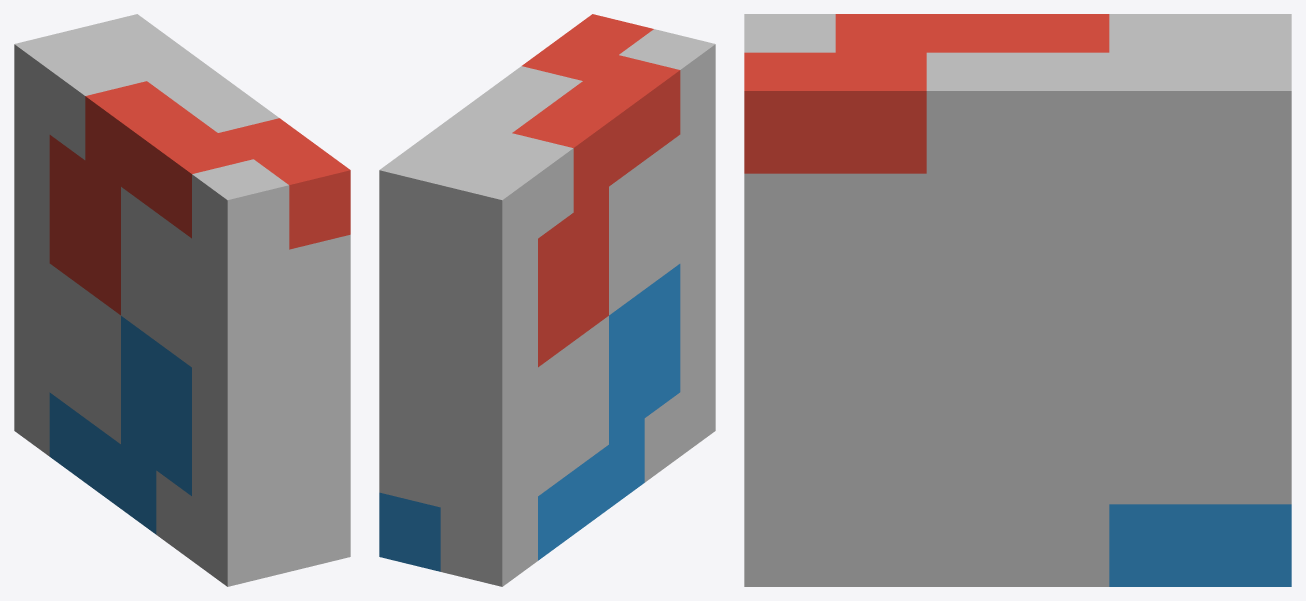
Rendered from tiling.obj.
3 renders of one model, left to right at view 1: azimuth 30°, elevation 25°; view 2: azimuth 150°, elevation 25°; view 3: azimuth 270°, elevation 25°, orthographic. The views are drawn at different scales.
Visible parts, largest first — view 1: copy_6, copy_1, copy_7, copy_5, copy_2, copy_3, copy_4, copy_8; view 2: copy_5, copy_1, copy_8, copy_2, copy_3, copy_6, copy_7, copy_4; view 3: copy_3, copy_7, copy_8, copy_4, copy_1, copy_5, copy_6, copy_2.
Part boxes in pixels (x1,y1,x2,y2): copy_6: (121,187,350,571); copy_1: (49,81,350,315); copy_7: (192,159,350,442); copy_5: (14,14,172,443); copy_2: (49,316,191,534); copy_3: (14,29,278,159); copy_4: (156,470,289,586); copy_8: (14,302,49,456); copy_5: (379,144,608,495); copy_1: (512,14,680,367); copy_8: (379,299,537,586); copy_2: (379,264,680,571); copy_3: (415,66,582,264); copy_6: (609,135,715,391); copy_7: (619,29,715,198); copy_4: (644,366,715,482); copy_3: (835,14,1291,338); copy_7: (744,14,1017,504); copy_8: (1018,173,1291,504); copy_4: (835,339,1200,586); copy_1: (744,14,1109,173); copy_5: (1200,52,1291,256); copy_6: (744,421,835,586); copy_2: (1109,504,1291,586).
Bounding box in the file's own units: 2 × 6 × 6.
